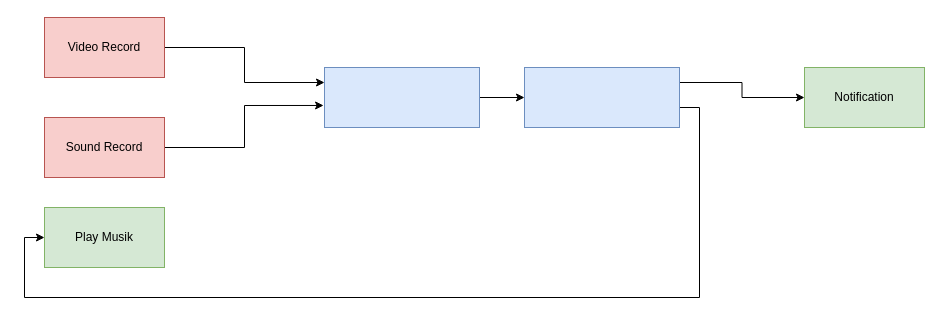
Image size: 942x323. Some labels were removed from this diagram. Here are the shapes that lost their labels. From the top down, the box of each, then its label:
(324, 66, 480, 128): Store and Preprocessing
(524, 66, 680, 128): Cry Recognizing
